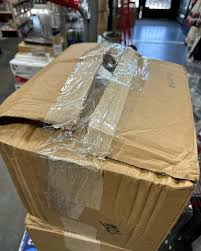damaged package: (42, 39, 143, 159), (0, 115, 78, 133)
